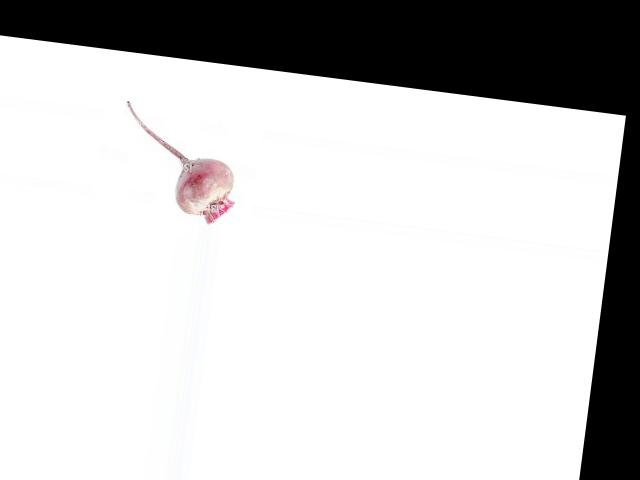beet: (111, 100, 244, 227)
